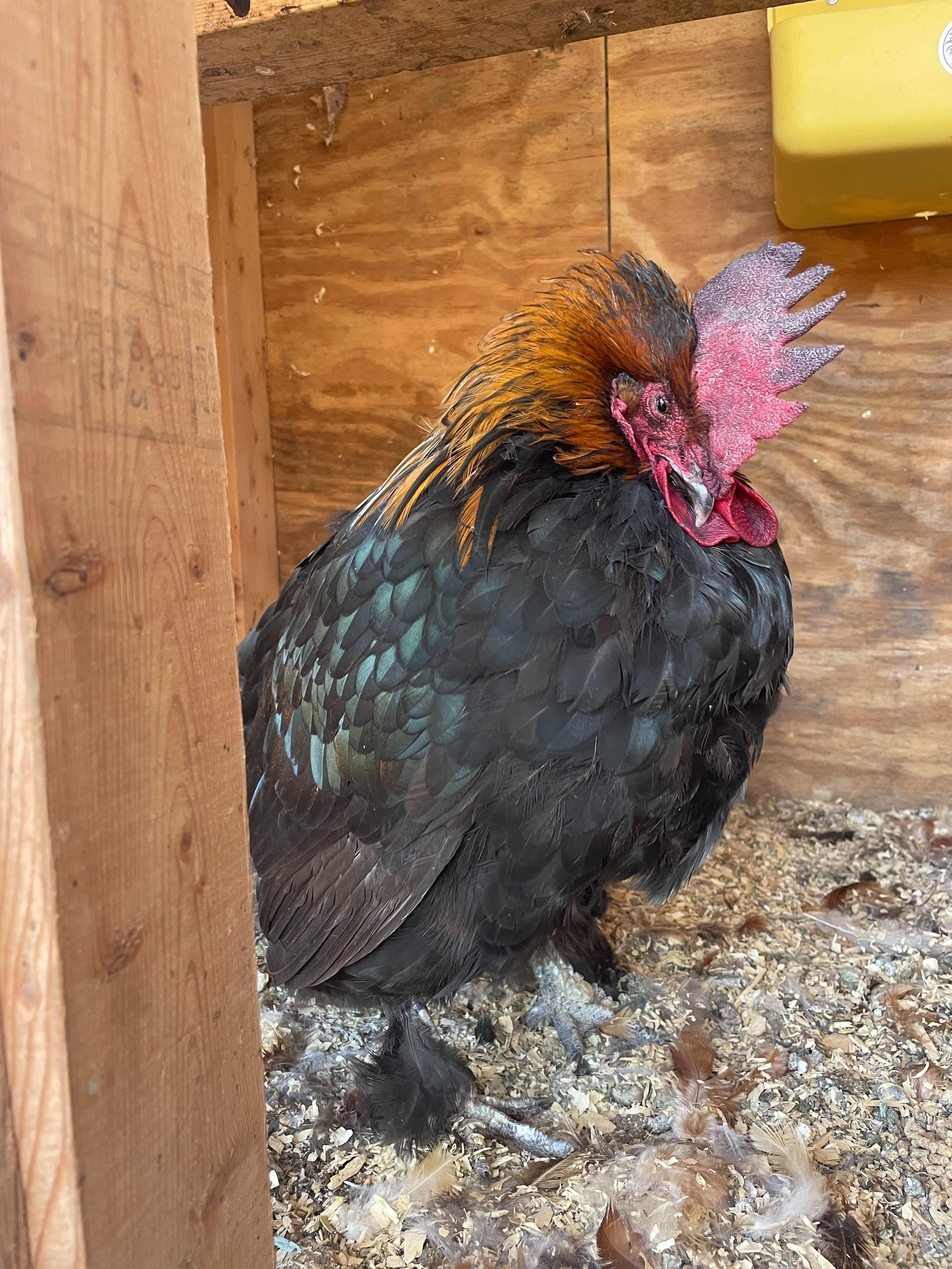AbNormal: (621, 237, 838, 558)
